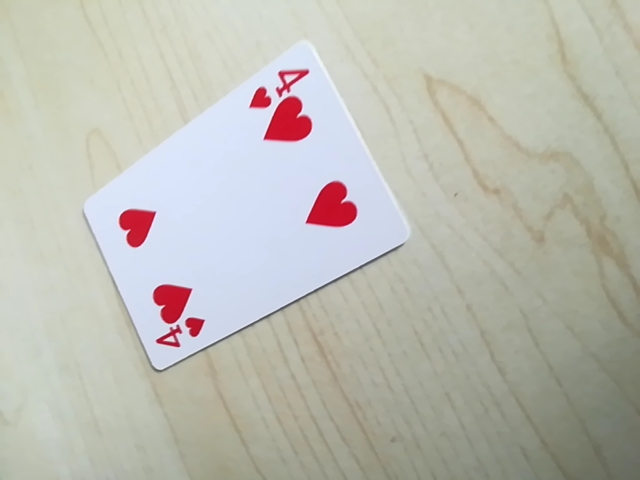hx 4: (244, 60, 313, 108), (149, 317, 209, 357)
